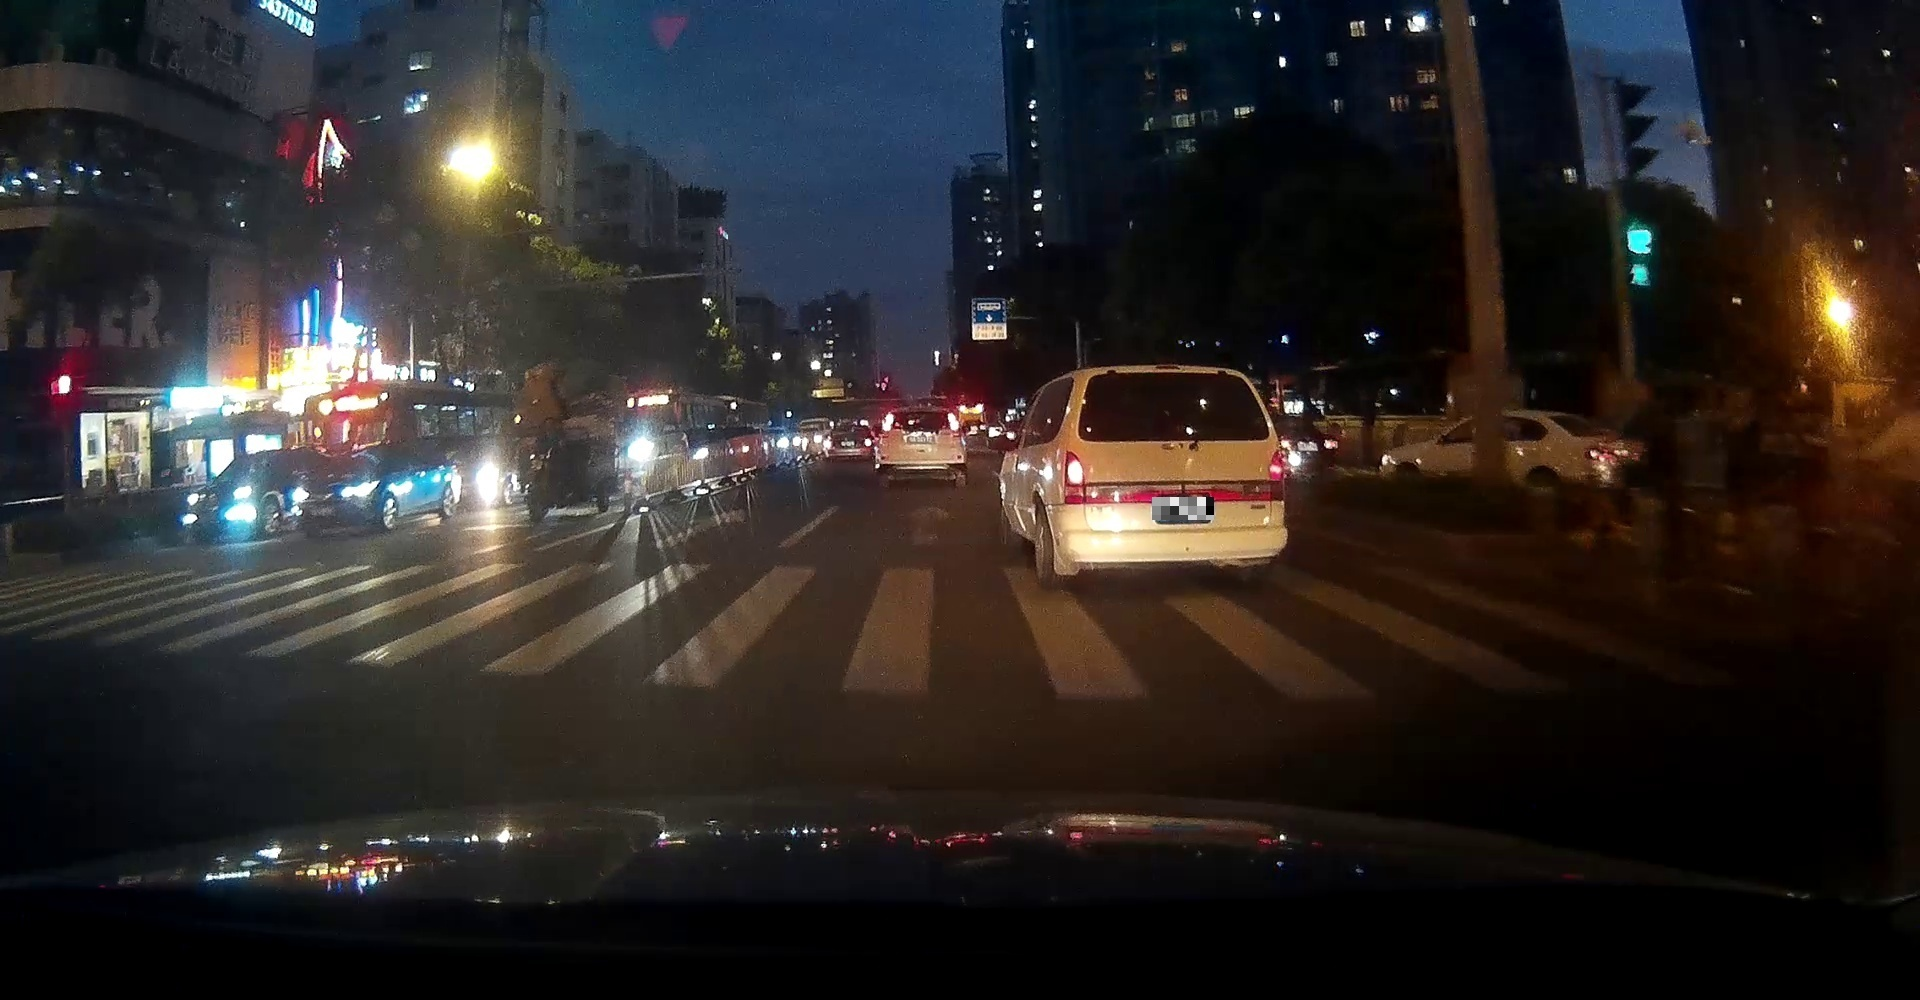L_light: (1065, 451, 1084, 504), (879, 414, 893, 437)
R_light: (1269, 448, 1286, 501), (949, 412, 960, 437)
T_light: (1150, 372, 1182, 381), (914, 412, 930, 418)
night-left: (1064, 364, 1288, 584)
night-no: (875, 407, 965, 486)
plate_1: (1152, 497, 1214, 520)
